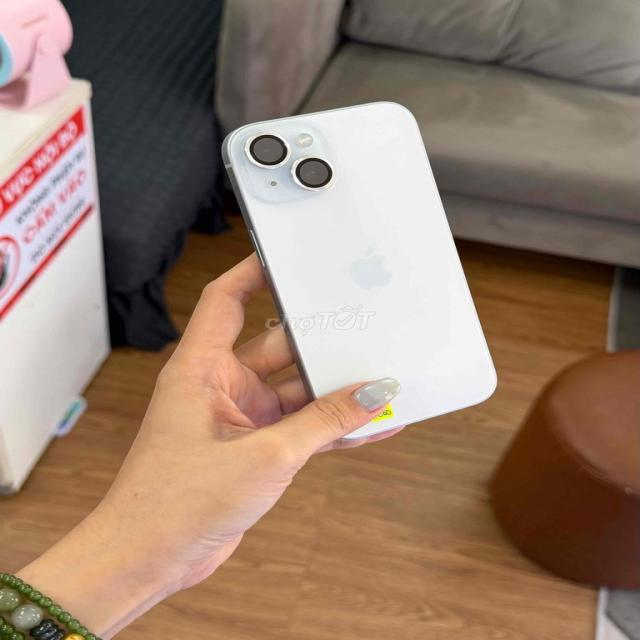gen_15: (188, 88, 522, 433)
